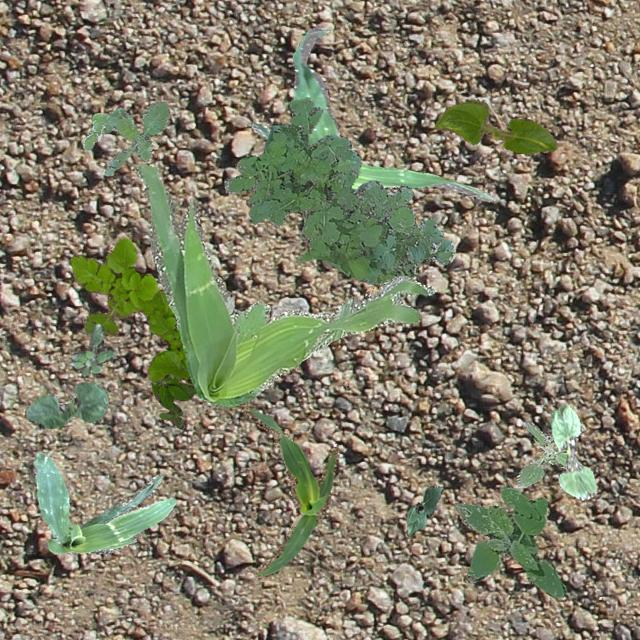crop: (250, 26, 492, 200), (240, 400, 338, 576), (32, 452, 176, 554), (434, 98, 556, 152), (550, 404, 596, 499), (23, 380, 108, 428), (406, 484, 442, 536)
weed: (132, 162, 432, 406), (222, 96, 454, 286), (68, 236, 192, 384), (454, 484, 566, 596), (82, 100, 168, 174), (516, 421, 566, 486), (68, 322, 114, 376), (150, 376, 196, 428)
